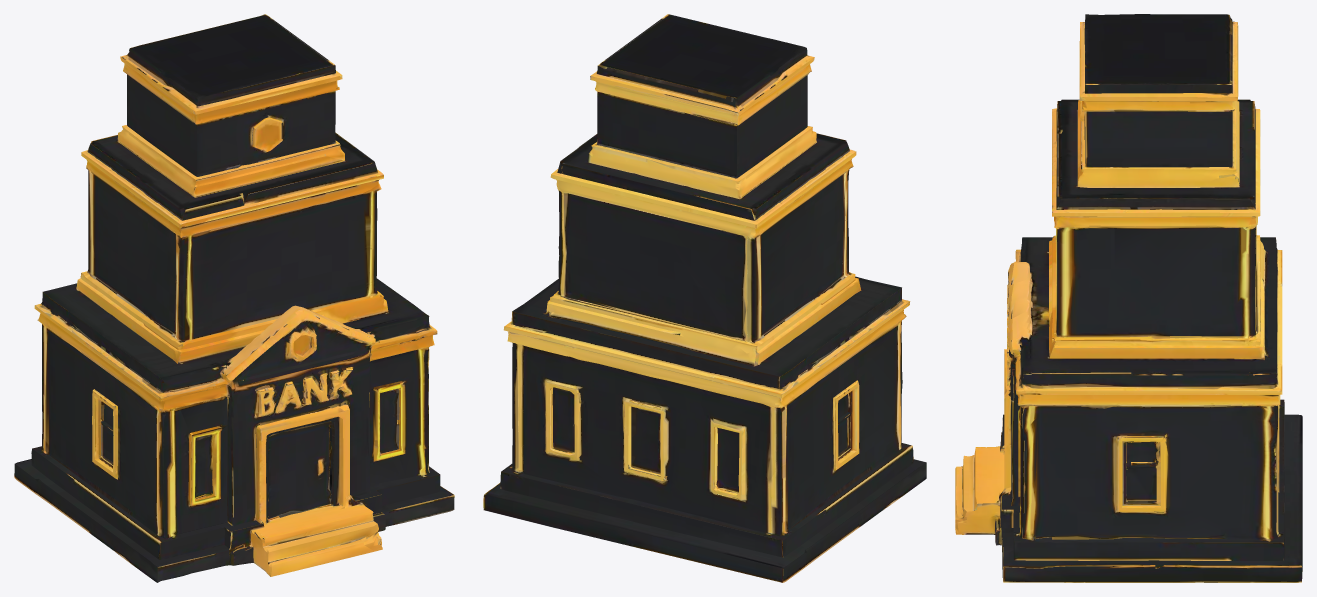
The model's file is bank.glb.
3 renders of one model, left to right at view 1: azimuth 30°, elevation 25°; view 2: azimuth 150°, elevation 25°; view 3: azimuth 270°, elevation 25°, orthographic. The views are drawn at different scales.
Parts seen in each view (by area): view 1: Bank; view 2: Bank; view 3: Bank.
Boxes of the visible parts, left/top/right/bottom form: Bank: left=14, top=14, right=454, bottom=582; Bank: left=483, top=14, right=926, bottom=582; Bank: left=955, top=14, right=1302, bottom=582.
Bounding box in the file's own units: 520 × 728 × 500.
Materials: 1 (1 with a texture image).
